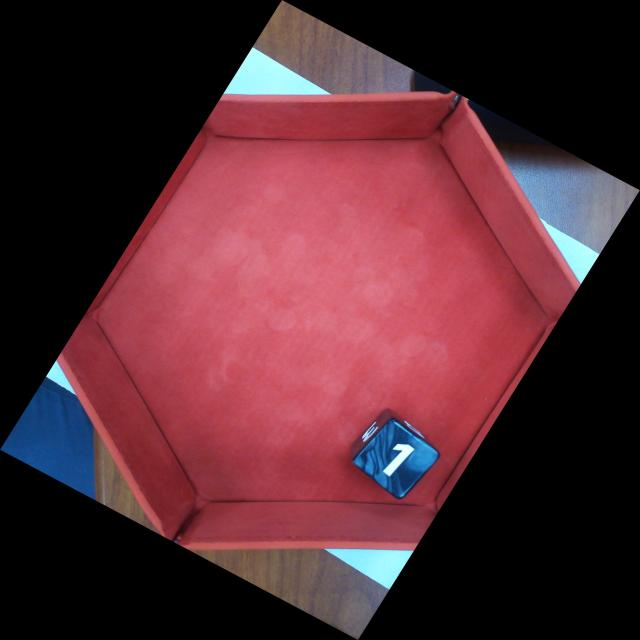dice: (349, 416, 443, 501)
